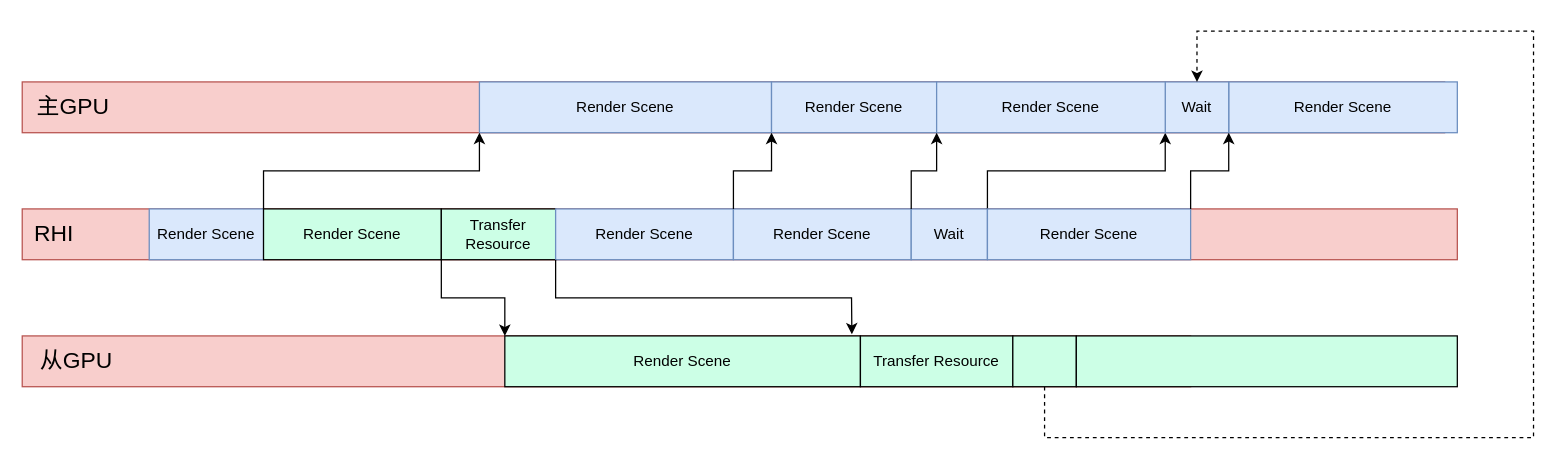
Some shapes in this 1566 by 470 pixel diagram are drawn without their labels. The centre of each missing label's shape, as x and y in pixels:
"Render Next Frame" belongs at point (1266, 361).
"Signal" belongs at point (1044, 361).
